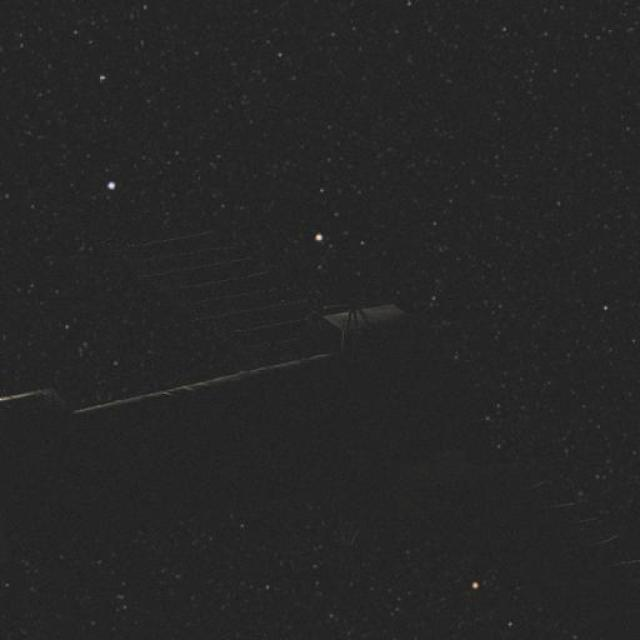xmm_newton: (0, 255, 429, 507)
